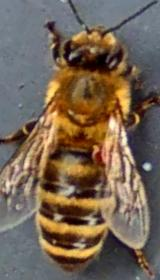varroa_mite: (76, 128, 124, 182)
